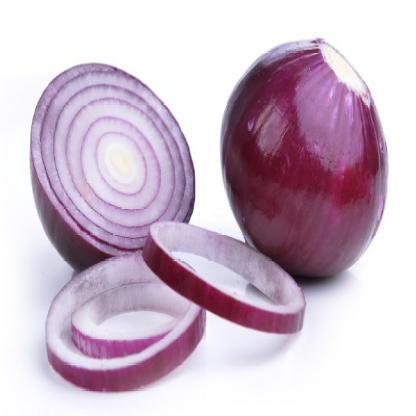onion: (236, 53, 390, 277), (35, 64, 192, 264)
